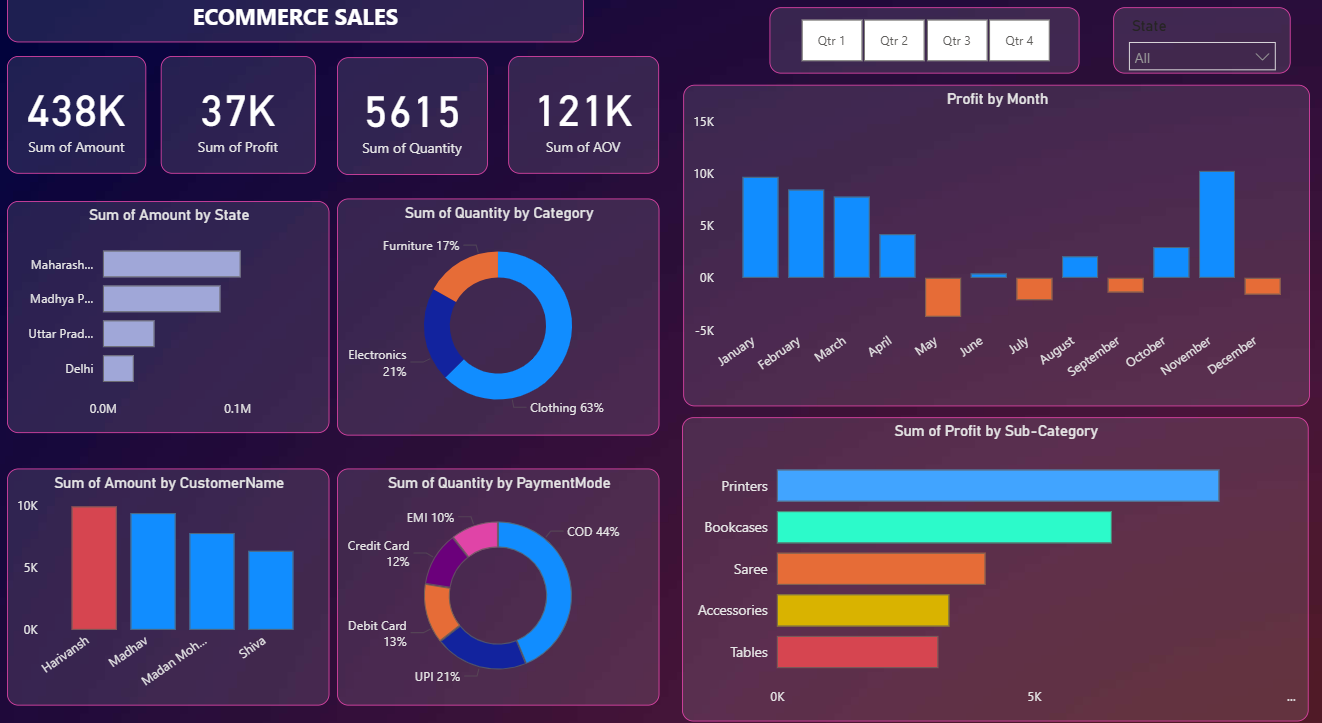

The dashboard page shown, as its layout file describes it:
{"tool":"powerbi","page":{"name":"Page 1","canvas":[1280,720],"ordinal":0},"visuals":[{"type":"textbox","box":[9.6,0,557.1,49.4],"z":0},{"type":"columnChart","title":" Profit by Month","fields":{"Y":["Details.Profit"],"Category":["Orders.Order Date.Variation.Date Hierarchy.Month"]},"box":[662.8,90.6,605.1,310.1],"z":1000},{"type":"barChart","fields":{"Category":["Details.Sub-Category"],"Y":["Details.Profit"]},"box":[661.4,411.7,605.1,293.7],"z":2000},{"type":"donutChart","fields":{"Category":["Details.Category"],"Y":["Details.Quantity"]},"box":[328,200.3,311.5,229.2],"z":3000},{"type":"donutChart","fields":{"Y":["Details.Quantity"],"Category":["Details.PaymentMode"]},"box":[328,461.1,311.5,229.2],"z":4000},{"type":"card","fields":{"Values":["Details.Amount"]},"box":[9.6,63.1,134.5,113.9],"z":5000},{"type":"card","fields":{"Values":["Details.Quantity"]},"box":[328,64.5,145.5,113.9],"z":6000},{"type":"card","fields":{"Values":["Details.Profit"]},"box":[157.8,63.1,149.6,113.9],"z":7000},{"type":"card","fields":{"Values":["Details.AOV"]},"box":[494,63.1,145.5,113.9],"z":8000},{"type":"barChart","fields":{"Category":["Orders.State"],"Y":["Details.Amount"]},"box":[9.6,203.1,311.5,223.7],"z":9000},{"type":"columnChart","fields":{"Category":["Orders.CustomerName"],"Y":["Details.Amount"]},"box":[9.6,461.1,311.5,229.2],"z":10000},{"type":"slicer","fields":{"Values":["Orders.Order Date.Variation.Date Hierarchy.Quarter"]},"box":[745.6,15.7,299.2,63.9],"z":11000},{"type":"slicer","fields":{"Values":["Orders.State"]},"box":[1077.4,15.7,171.3,63.9],"z":11001}]}

Visuals, with their boxes in screenshot pixels (x1, y1, x2, y2), scaled from the page's 1280x720 canvas onto the 1322x723 screenshot:
textbox: [10,0,585,50]
" Profit by Month" columnChart: [685,91,1310,402]
barChart - Details.Sub-Category x Details.Profit: [683,413,1308,708]
donutChart - Details.Category x Details.Quantity: [339,201,660,431]
donutChart - Details.Quantity x Details.PaymentMode: [339,463,660,693]
card - Details.Amount: [10,63,149,178]
card - Details.Quantity: [339,65,489,179]
card - Details.Profit: [163,63,317,178]
card - Details.AOV: [510,63,660,178]
barChart - Orders.State x Details.Amount: [10,204,332,429]
columnChart - Orders.CustomerName x Details.Amount: [10,463,332,693]
slicer - Orders.Order Date.Variation.Date Hierarchy.Quarter: [770,16,1079,80]
slicer - Orders.State: [1113,16,1290,80]
